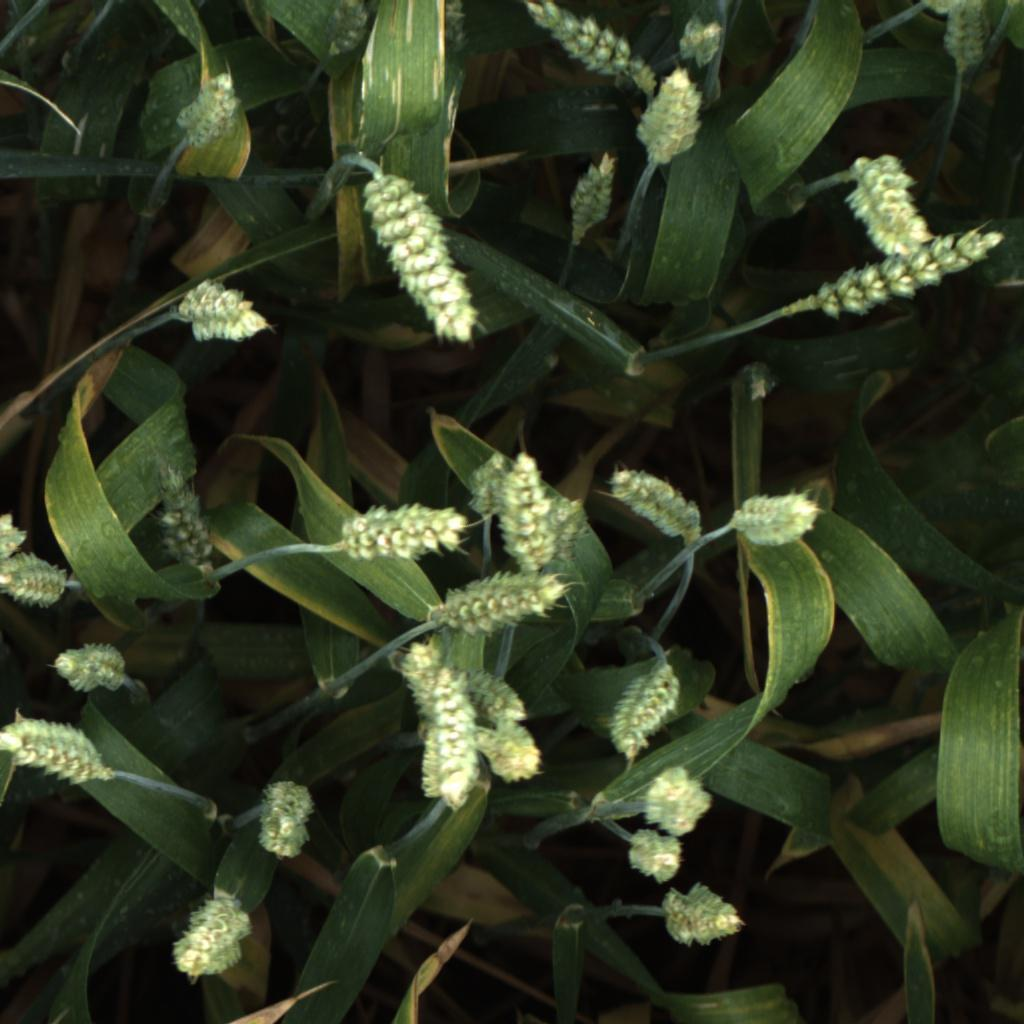0-0: (358, 168, 485, 344), (815, 218, 1007, 329), (847, 146, 934, 266), (524, 0, 638, 90), (433, 570, 571, 639), (603, 653, 688, 758), (160, 893, 257, 982), (0, 714, 118, 786), (606, 457, 703, 542), (336, 504, 467, 566), (635, 67, 710, 170), (147, 463, 220, 568), (423, 667, 477, 800), (381, 628, 457, 722), (177, 278, 276, 350), (498, 443, 551, 568), (656, 882, 747, 953), (252, 777, 324, 866), (728, 485, 823, 551), (559, 148, 623, 239), (173, 65, 242, 149), (45, 641, 130, 699), (476, 725, 553, 789), (648, 763, 713, 835), (457, 448, 515, 521), (0, 555, 74, 611), (543, 494, 601, 564), (938, 0, 993, 73), (464, 669, 532, 727), (623, 830, 690, 887), (671, 10, 732, 71), (433, 0, 474, 66), (0, 506, 30, 564)
